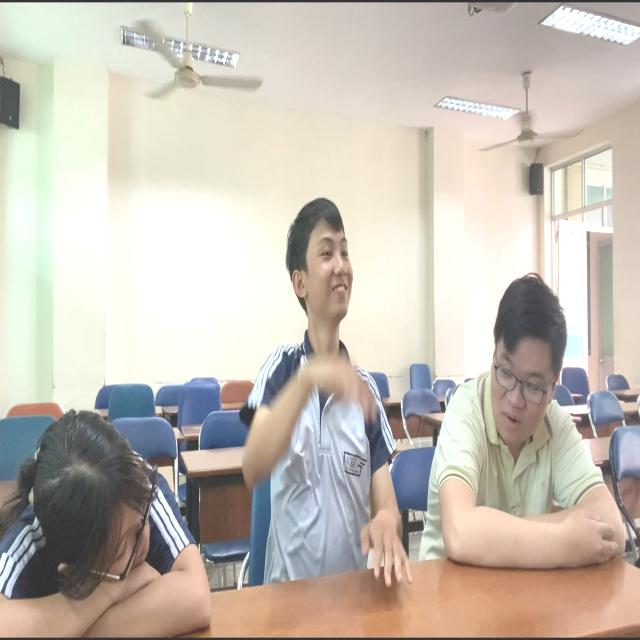sleep: (2, 339, 215, 640)
